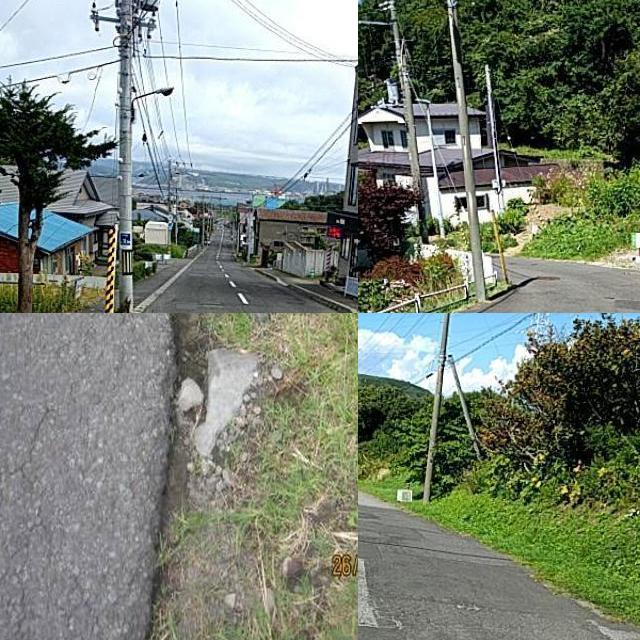Pinggir: (75, 313, 236, 640)
Sambungan: (605, 297, 640, 310)
